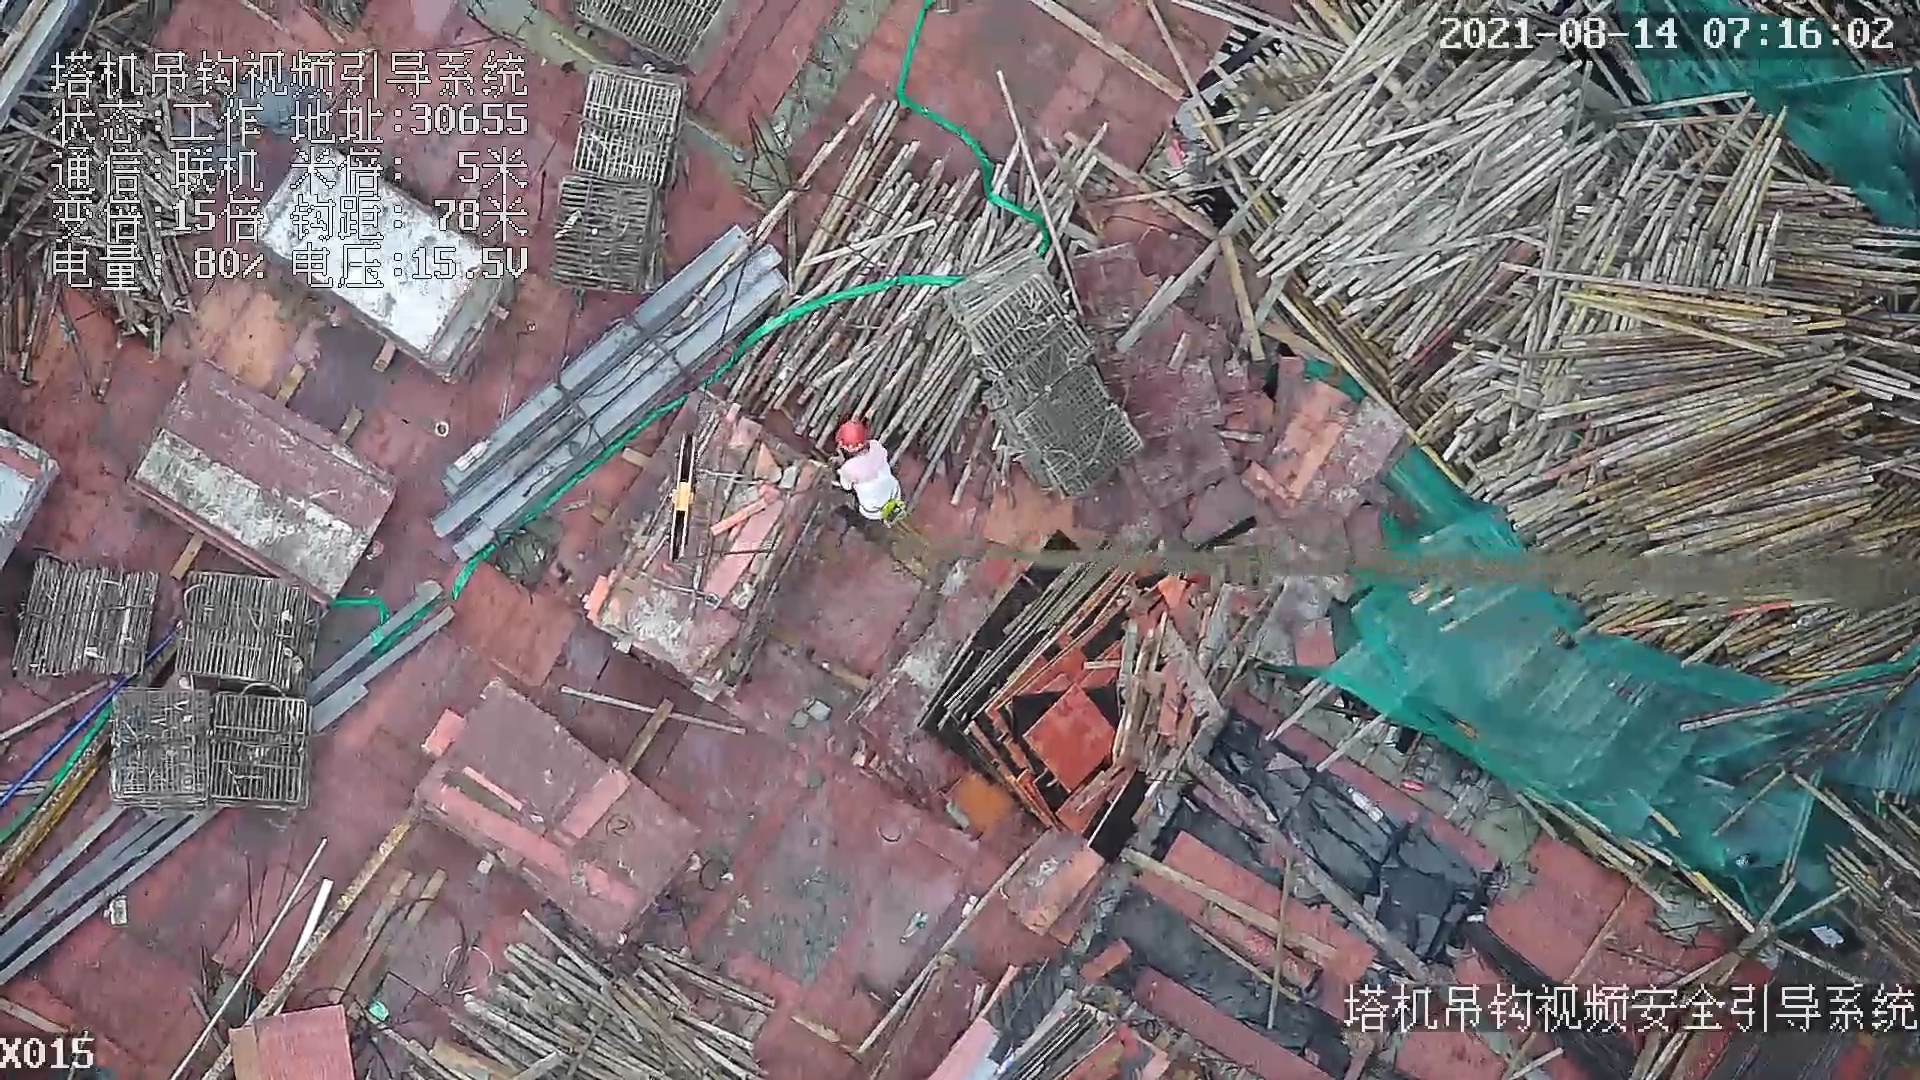helmet: (837, 419, 869, 454)
hook: (663, 432, 703, 568)
person: (835, 413, 910, 537)
